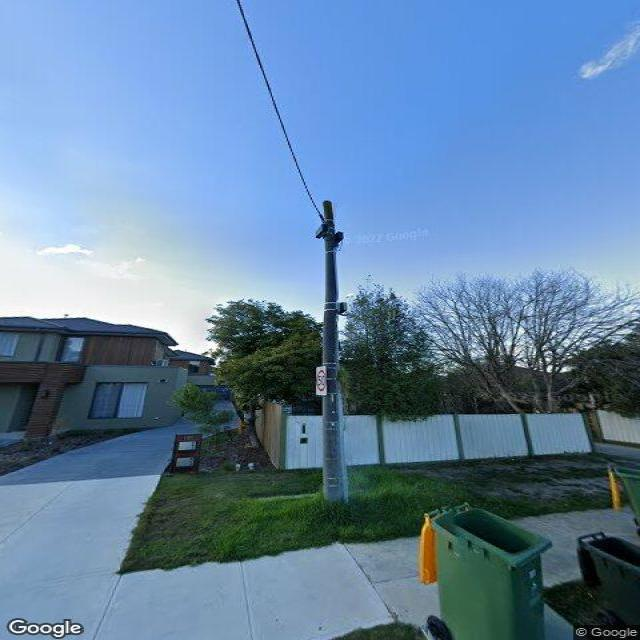concrete-pole: (316, 197, 350, 512)
